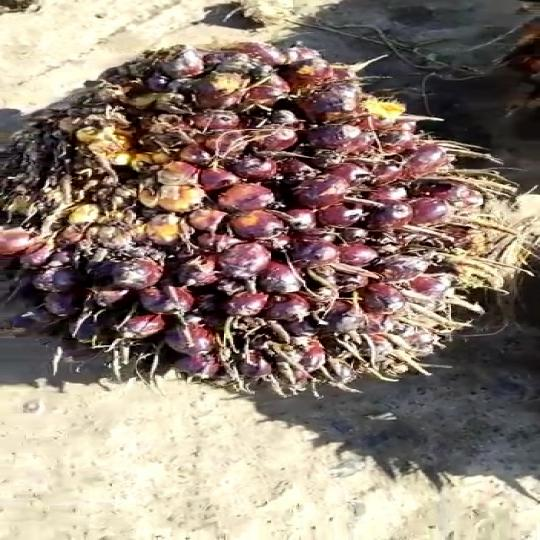kurang masak: (4, 38, 540, 395)
